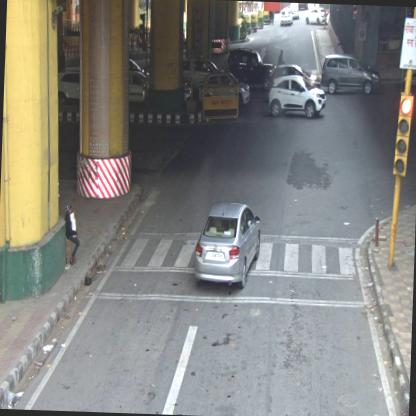car: (195, 196, 262, 290), (268, 73, 326, 120), (321, 54, 381, 92), (224, 50, 274, 89), (198, 74, 249, 108), (306, 9, 328, 26), (280, 6, 294, 26)
